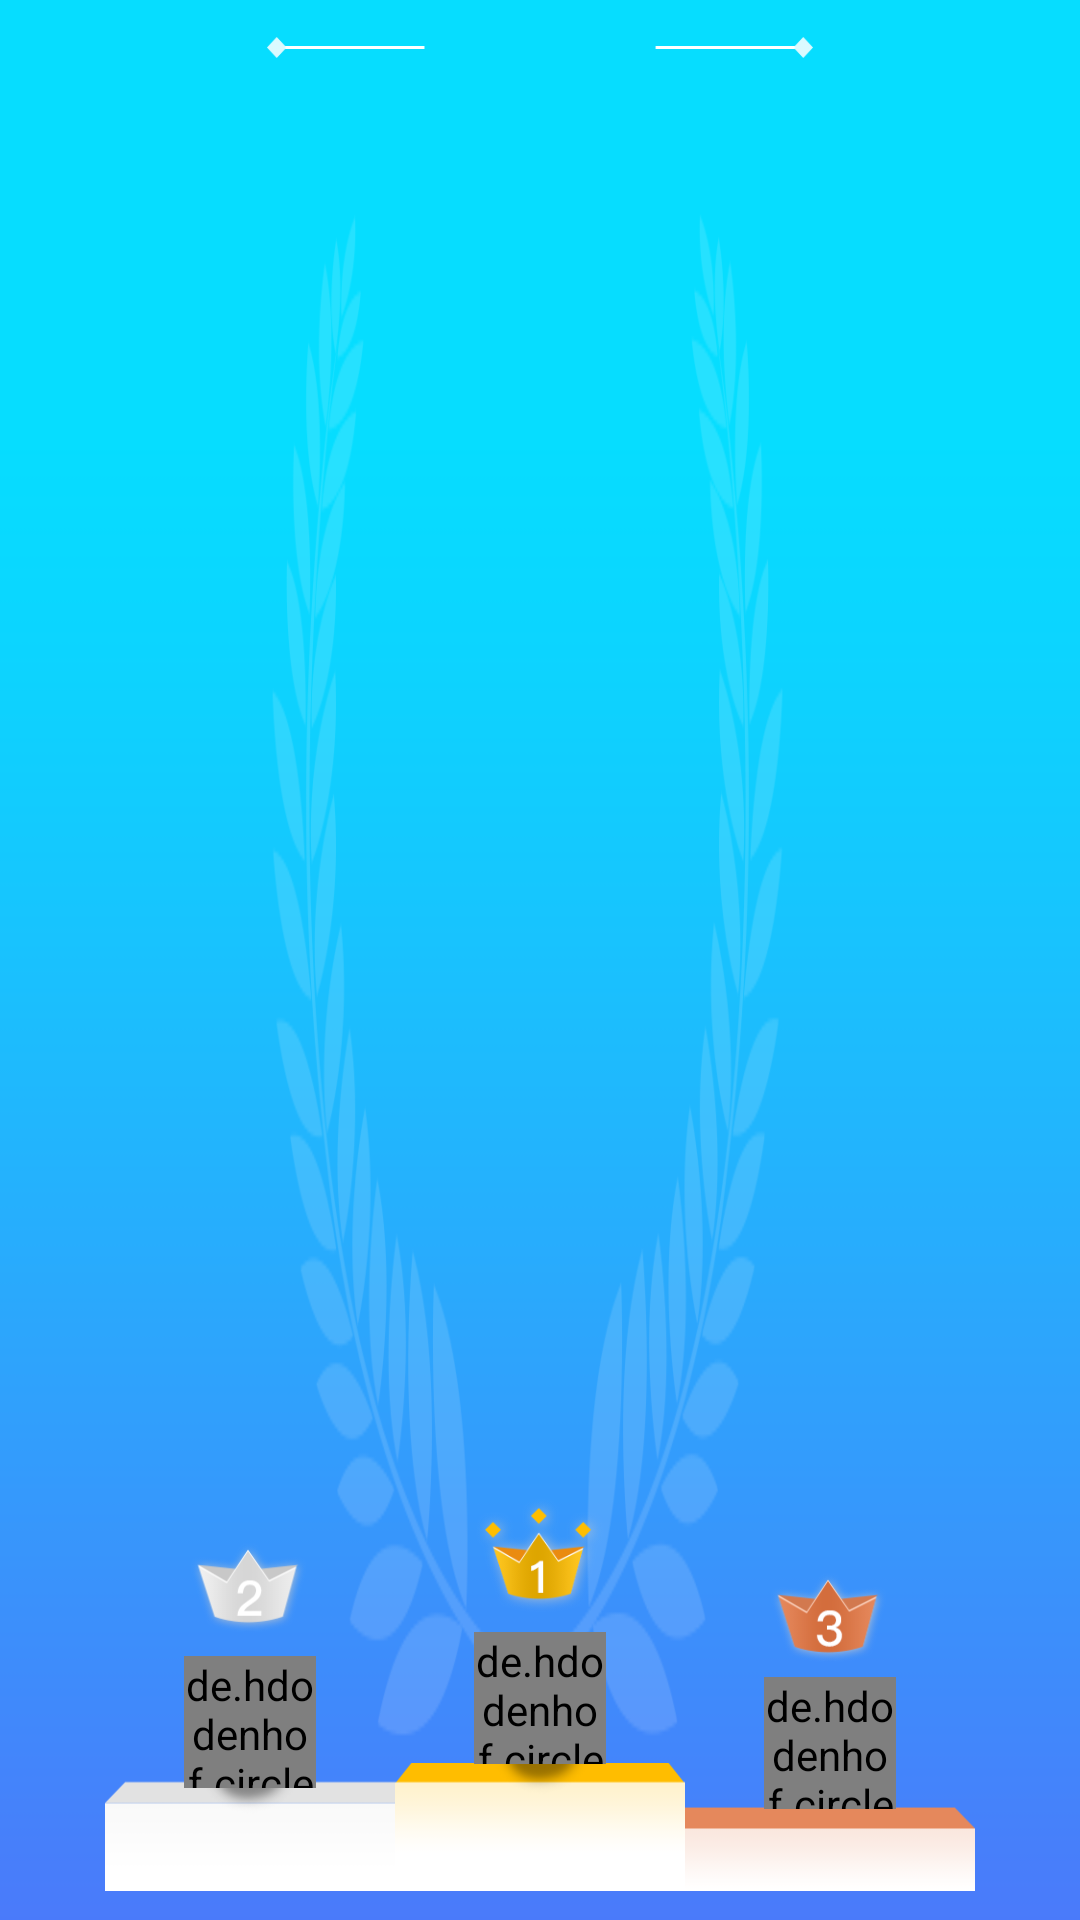

Icons on this 1080w x 1920h Android screen, each with its box as rect(x1, y1, x2, y2):
crown copper: rect(777, 1579, 880, 1657)
crown gold: rect(485, 1508, 602, 1604)
crown silver: rect(197, 1550, 299, 1627)
